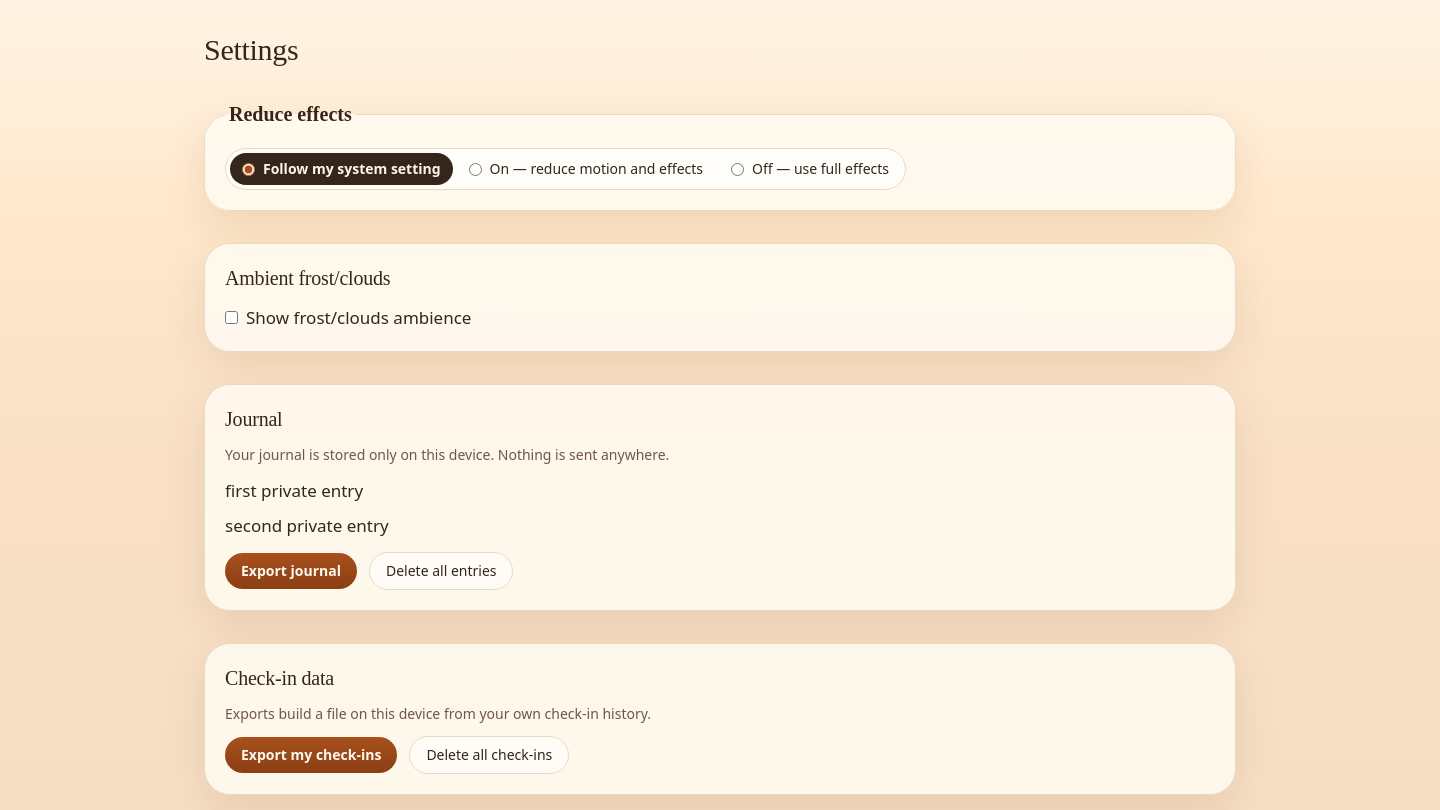
SettingsPage — journal › confirm clears the journal with an inline confirmation (not toast-only)
The width and height of the screenshot is (1440, 810).
Click the button "Delete all entries".
click(441, 571)  # box 369,552 -> 514,590
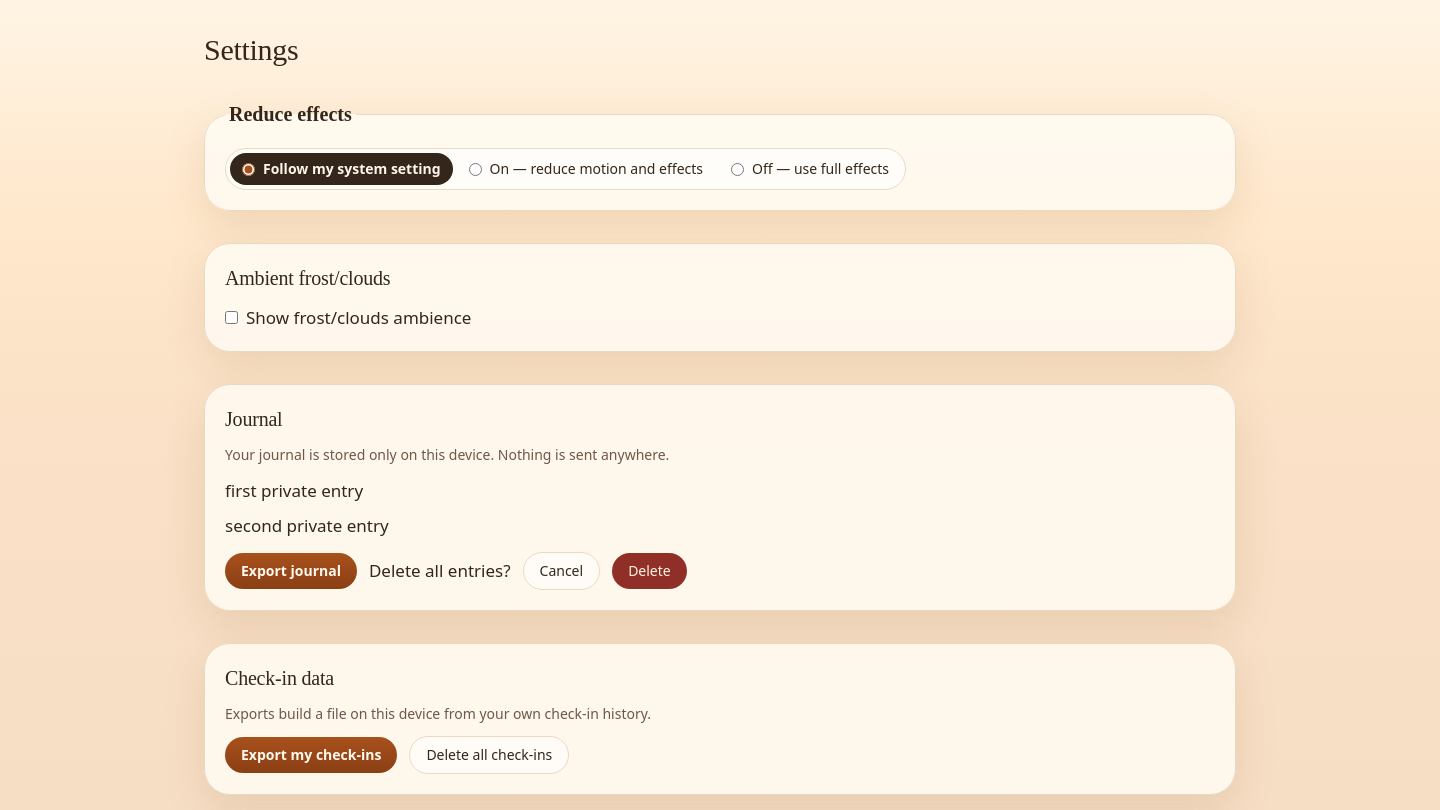
Click the button "Delete".
click(649, 571)  # box 612,553 -> 687,589
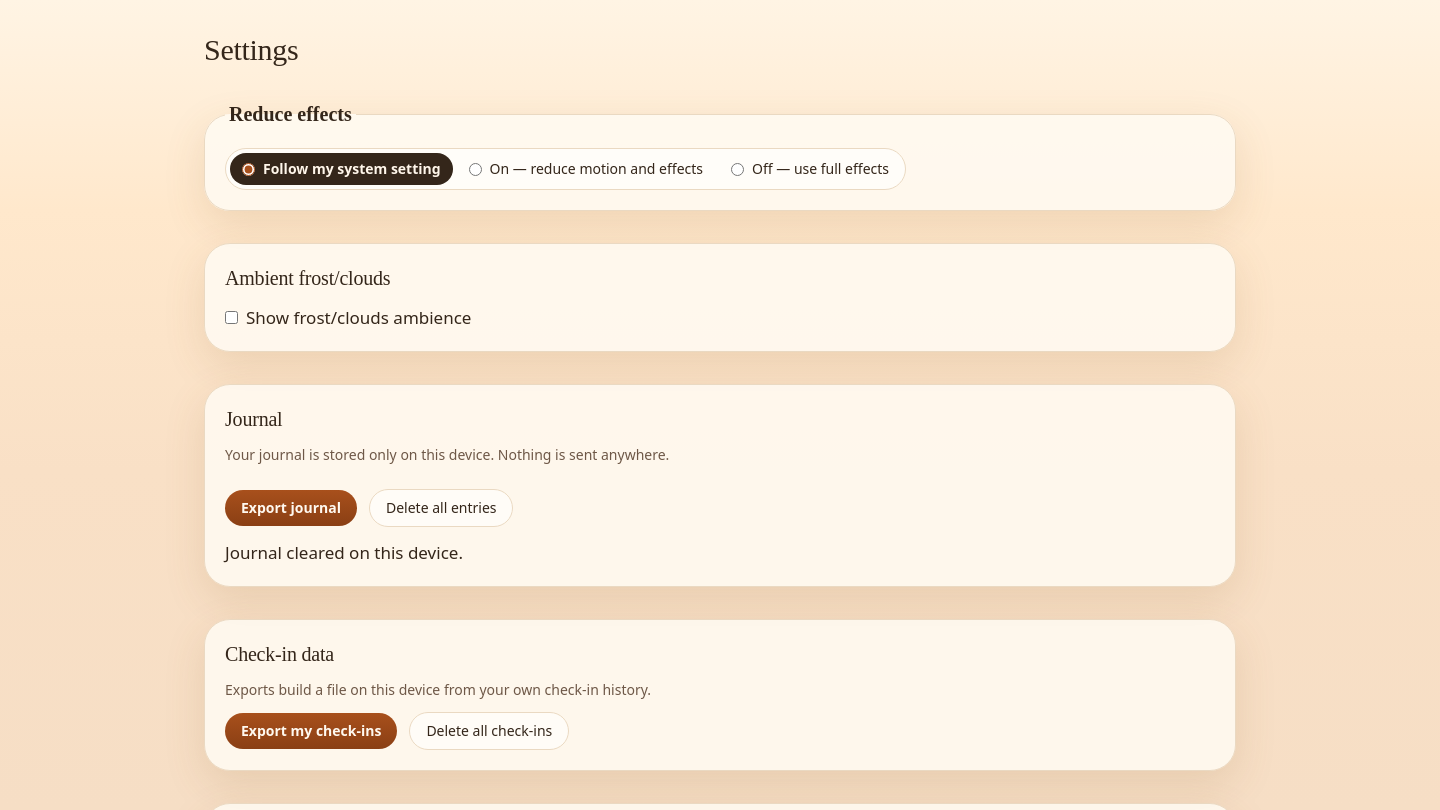
Now the message shows "cleared", box 225,541 -> 463,564
Now the list item "first private entry" is gone
